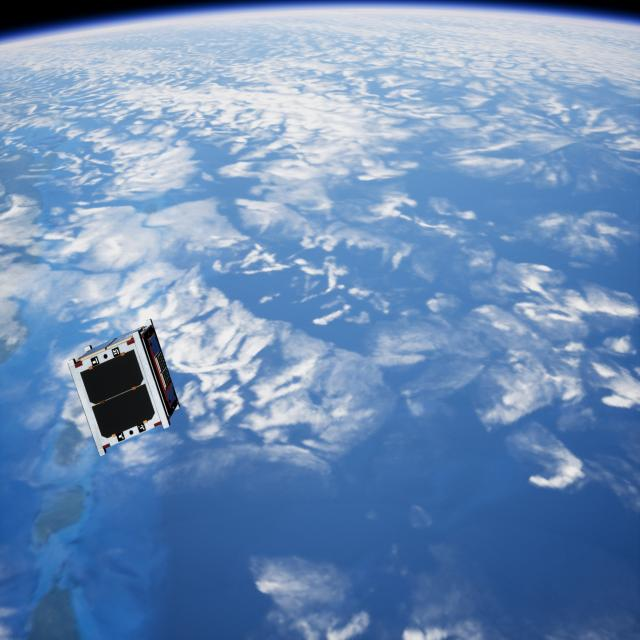medium_debris: (68, 314, 190, 458)
